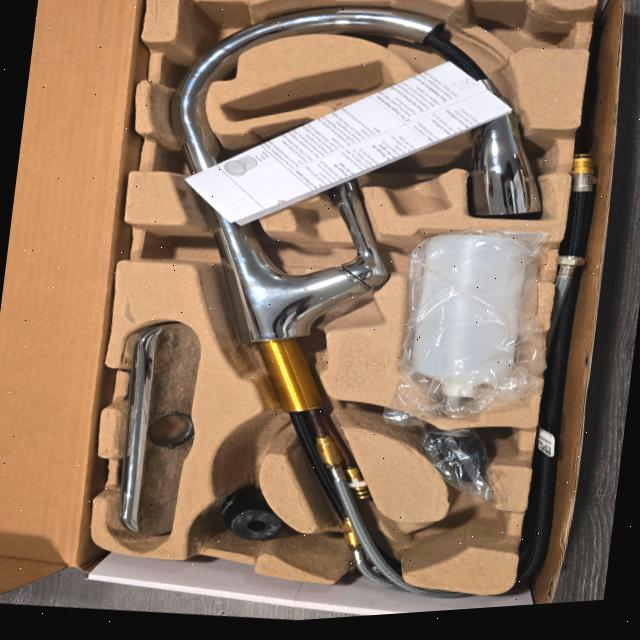1o: (168, 6, 542, 589)
2m: (224, 64, 448, 215)
3: (415, 231, 529, 414)
4: (118, 322, 195, 535)
5: (218, 486, 279, 540)
6m: (409, 496, 511, 566)
7: (414, 421, 491, 500)
8: (181, 58, 514, 224)
